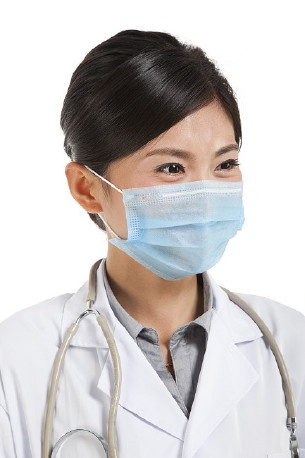Mask: (119, 141, 259, 282)
